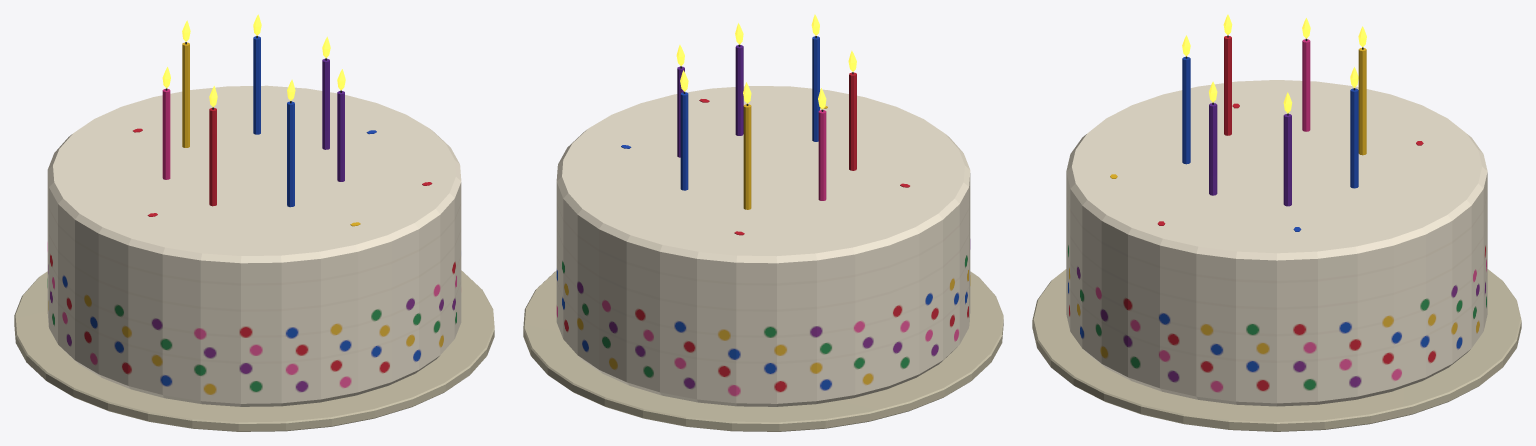
Rendered from party_cake_lit.glb.
The picture shows the model from 3 angles, left to right: view 1: azimuth 30°, elevation 25°; view 2: azimuth 150°, elevation 25°; view 3: azimuth 270°, elevation 25°; orthographic projection.
Parts seen in each view (by area): view 1: party_cake_lit; view 2: party_cake_lit; view 3: party_cake_lit.
Boxes of the visible parts, <box> form: party_cake_lit: <box>14,36,494,431</box>; party_cake_lit: <box>523,36,1003,431</box>; party_cake_lit: <box>1032,35,1521,431</box>.
Size of the model in its own units: 0.36 by 0.236 by 0.36.
Materials: 3 (3 with a texture image).
